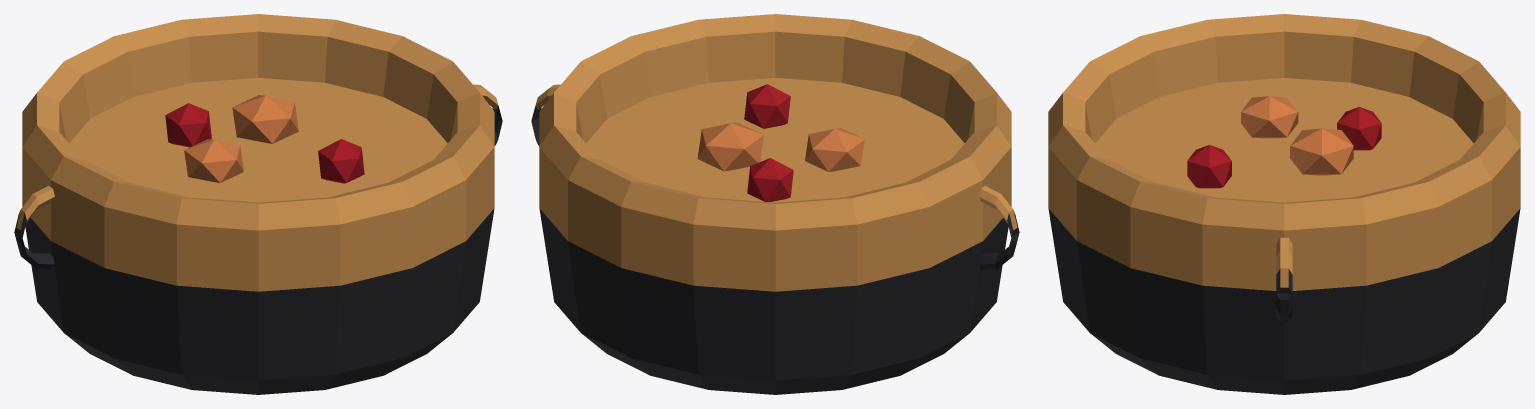
The model's file is Sweet_Feast.glb.
3 renders of one model, left to right at view 1: azimuth 30°, elevation 25°; view 2: azimuth 150°, elevation 25°; view 3: azimuth 270°, elevation 25°, orthographic.
Parts seen in each view (by area): view 1: _ITEM_SweetFeast; view 2: _ITEM_SweetFeast; view 3: _ITEM_SweetFeast.
Part boxes in pixels (left/top/right/bottom): _ITEM_SweetFeast: left=14, top=14, right=502, bottom=394; _ITEM_SweetFeast: left=531, top=14, right=1019, bottom=394; _ITEM_SweetFeast: left=1048, top=14, right=1520, bottom=394.
Size of the model in its own units: 0.74 by 0.3 by 0.6303.
